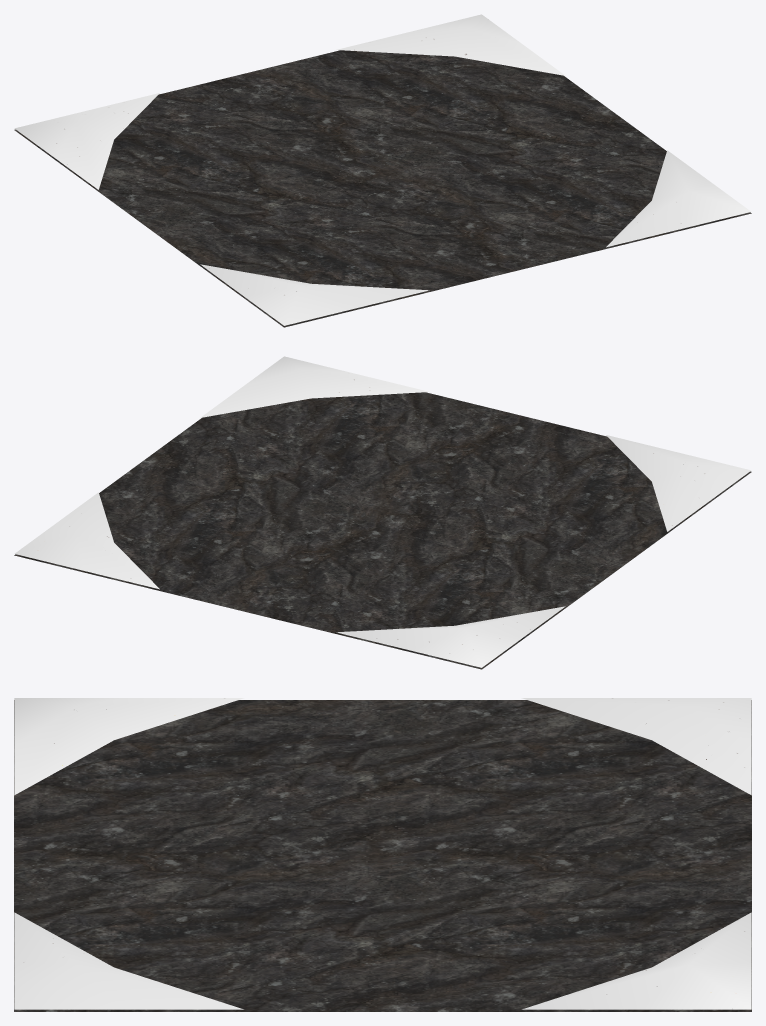
Rendered from Garden_02_Art.glb.
3 views of the same model, one above another, from view 1: azimuth 30°, elevation 25°; view 2: azimuth 150°, elevation 25°; view 3: azimuth 270°, elevation 25° (orthographic). The views are drawn at different scales.
Parts seen in each view (by area): view 1: Garden_02_Art; view 2: Garden_02_Art; view 3: Garden_02_Art.
Boxes of the visible parts, bbox=[...] form: Garden_02_Art: bbox=[14, 14, 751, 327]; Garden_02_Art: bbox=[14, 356, 751, 669]; Garden_02_Art: bbox=[14, 698, 751, 1011].
Size of the model in its own units: 15.98 by 0.4884 by 15.98.
Materials: 2 (2 with a texture image).
